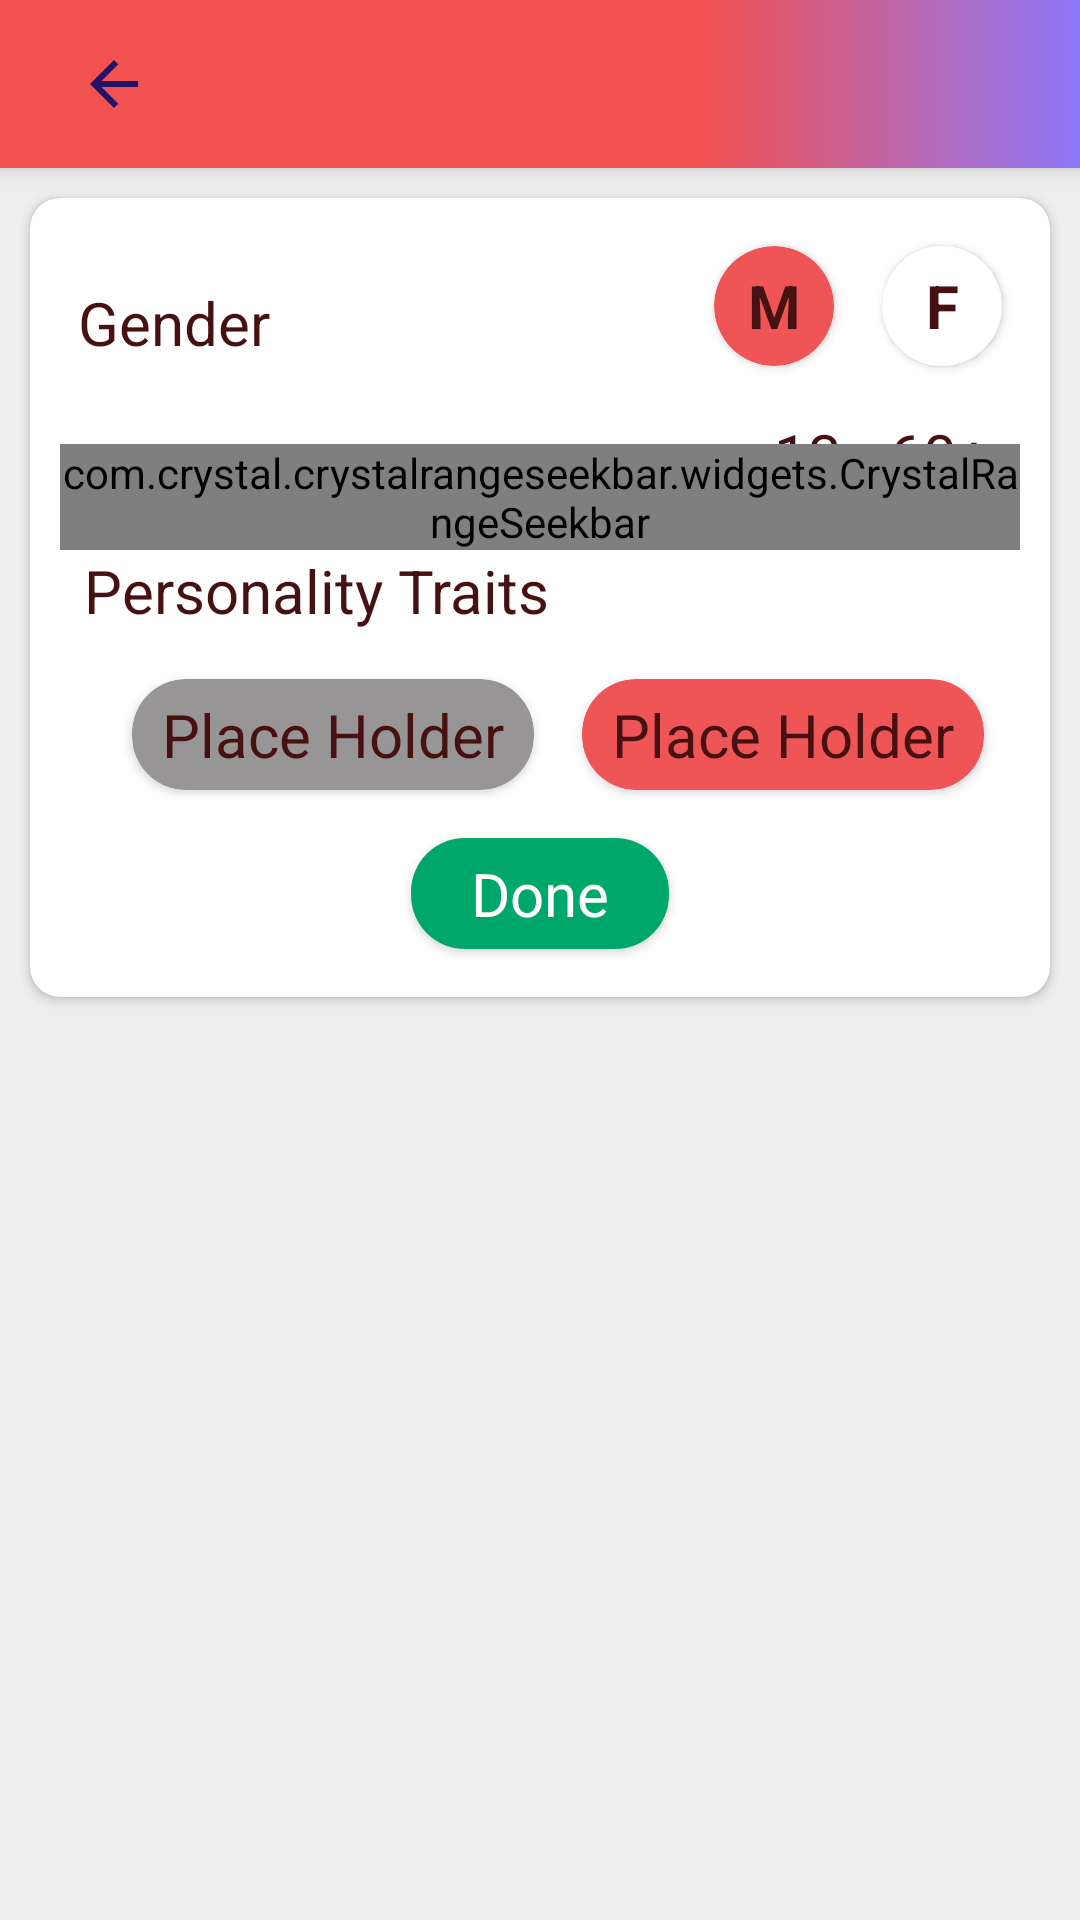

Icons on this 1080*1920 Android screen, each with the point to tap as (x,y):
arrow back: (114,84)
